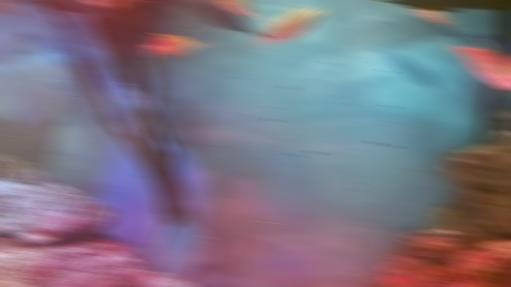Fish: (248, 3, 327, 49), (179, 0, 266, 38), (452, 38, 510, 79), (142, 33, 207, 57), (217, 0, 266, 23), (413, 9, 458, 29), (7, 33, 36, 59), (0, 0, 25, 16), (386, 275, 406, 286), (83, 0, 105, 8)
